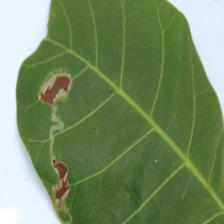leaf miner: (14, 0, 224, 223)
